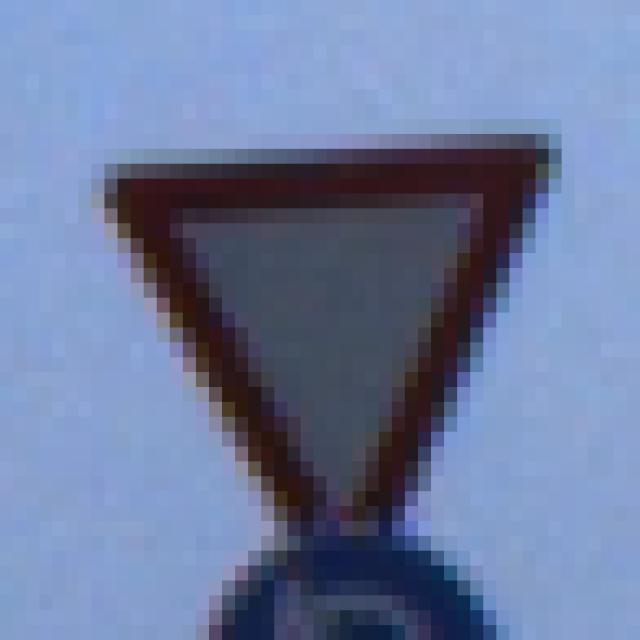Give Way: (79, 90, 576, 567)
